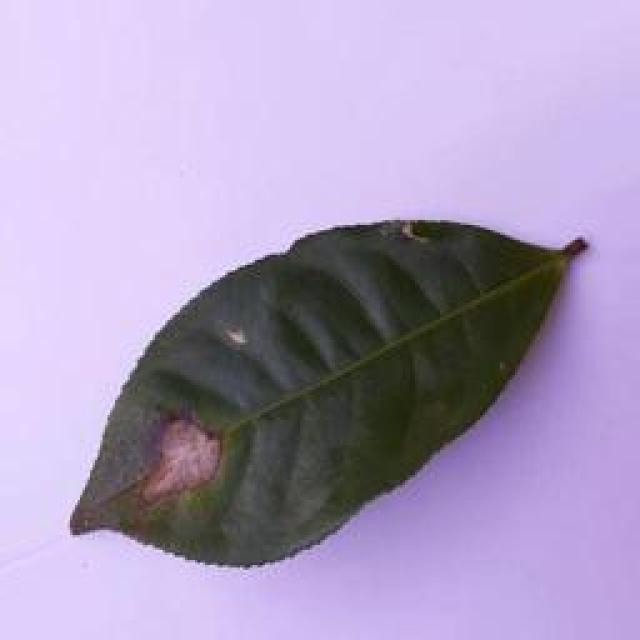Gray Blight: (70, 214, 588, 568)
